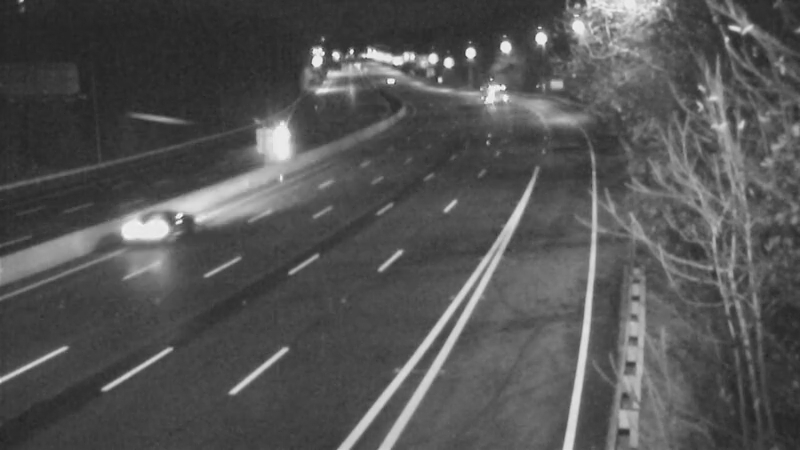vehicle: (112, 178, 192, 258), (361, 57, 411, 107), (461, 66, 511, 116), (251, 110, 301, 160)
